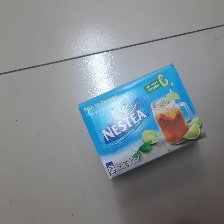Nestea: (77, 62, 207, 181)
